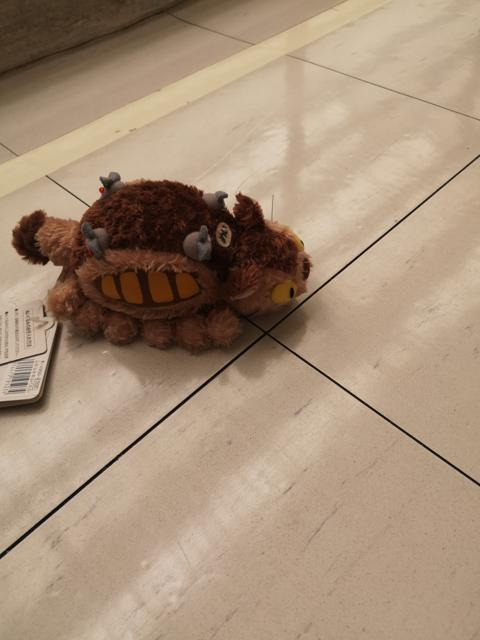nekobus: (7, 165, 318, 360)
